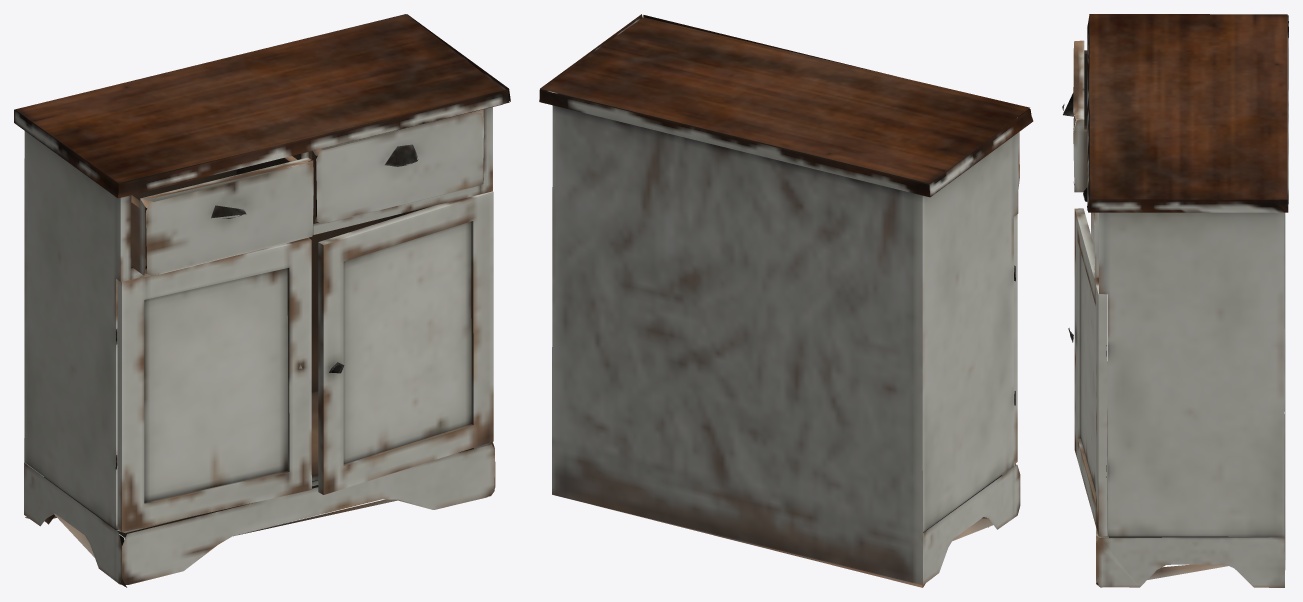
Rendered from Cabinet_Wood.fbx.
3 views of the same model, side by side, from view 1: azimuth 30°, elevation 25°; view 2: azimuth 150°, elevation 25°; view 3: azimuth 270°, elevation 25° (orthographic). The views are drawn at different scales.
Visible parts, largest first — view 1: тумба большая; view 2: тумба большая; view 3: тумба большая.
Boxes of the visible parts, x1,y1,x2,y2 form: тумба большая: (14,14,510,587); тумба большая: (539,14,1033,587); тумба большая: (1062,14,1288,587).
Size of the model in its own units: 1.2 by 1.19 by 0.6166.
Materials: 1 (1 with a texture image).
